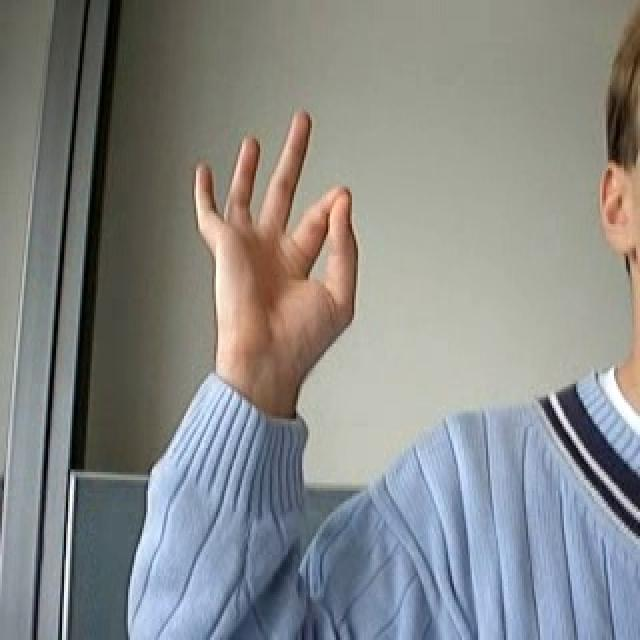F: (180, 96, 375, 390)
